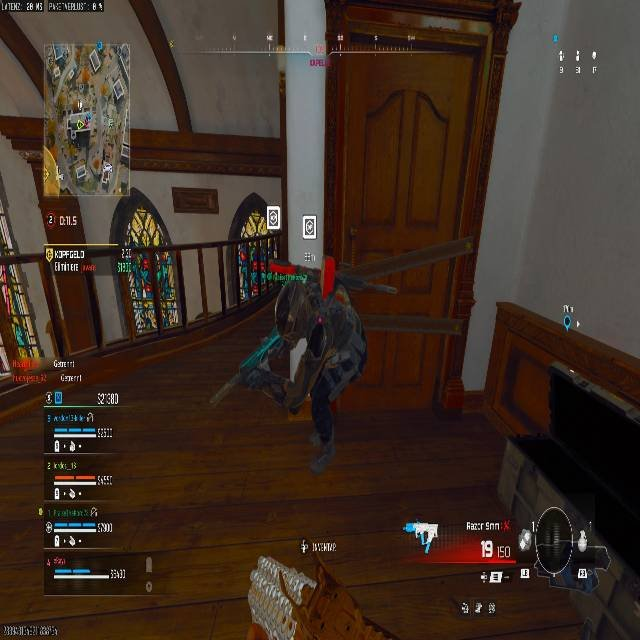head: (530, 507, 574, 570)
player: (249, 261, 365, 473), (517, 506, 638, 640)
